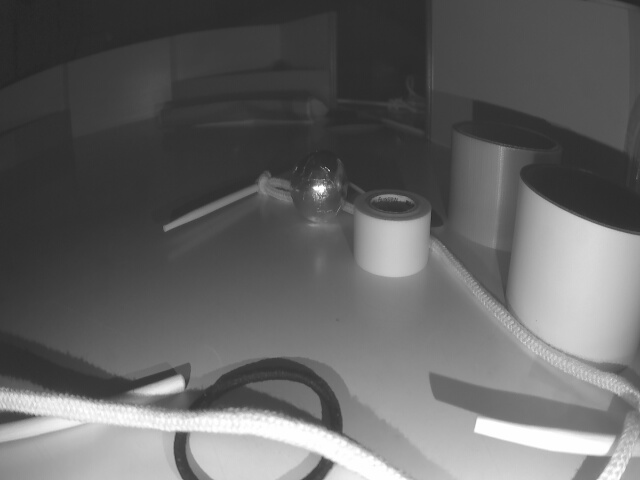Live: (291, 152, 347, 223)
Point: (172, 68, 330, 105), (0, 111, 66, 161)
